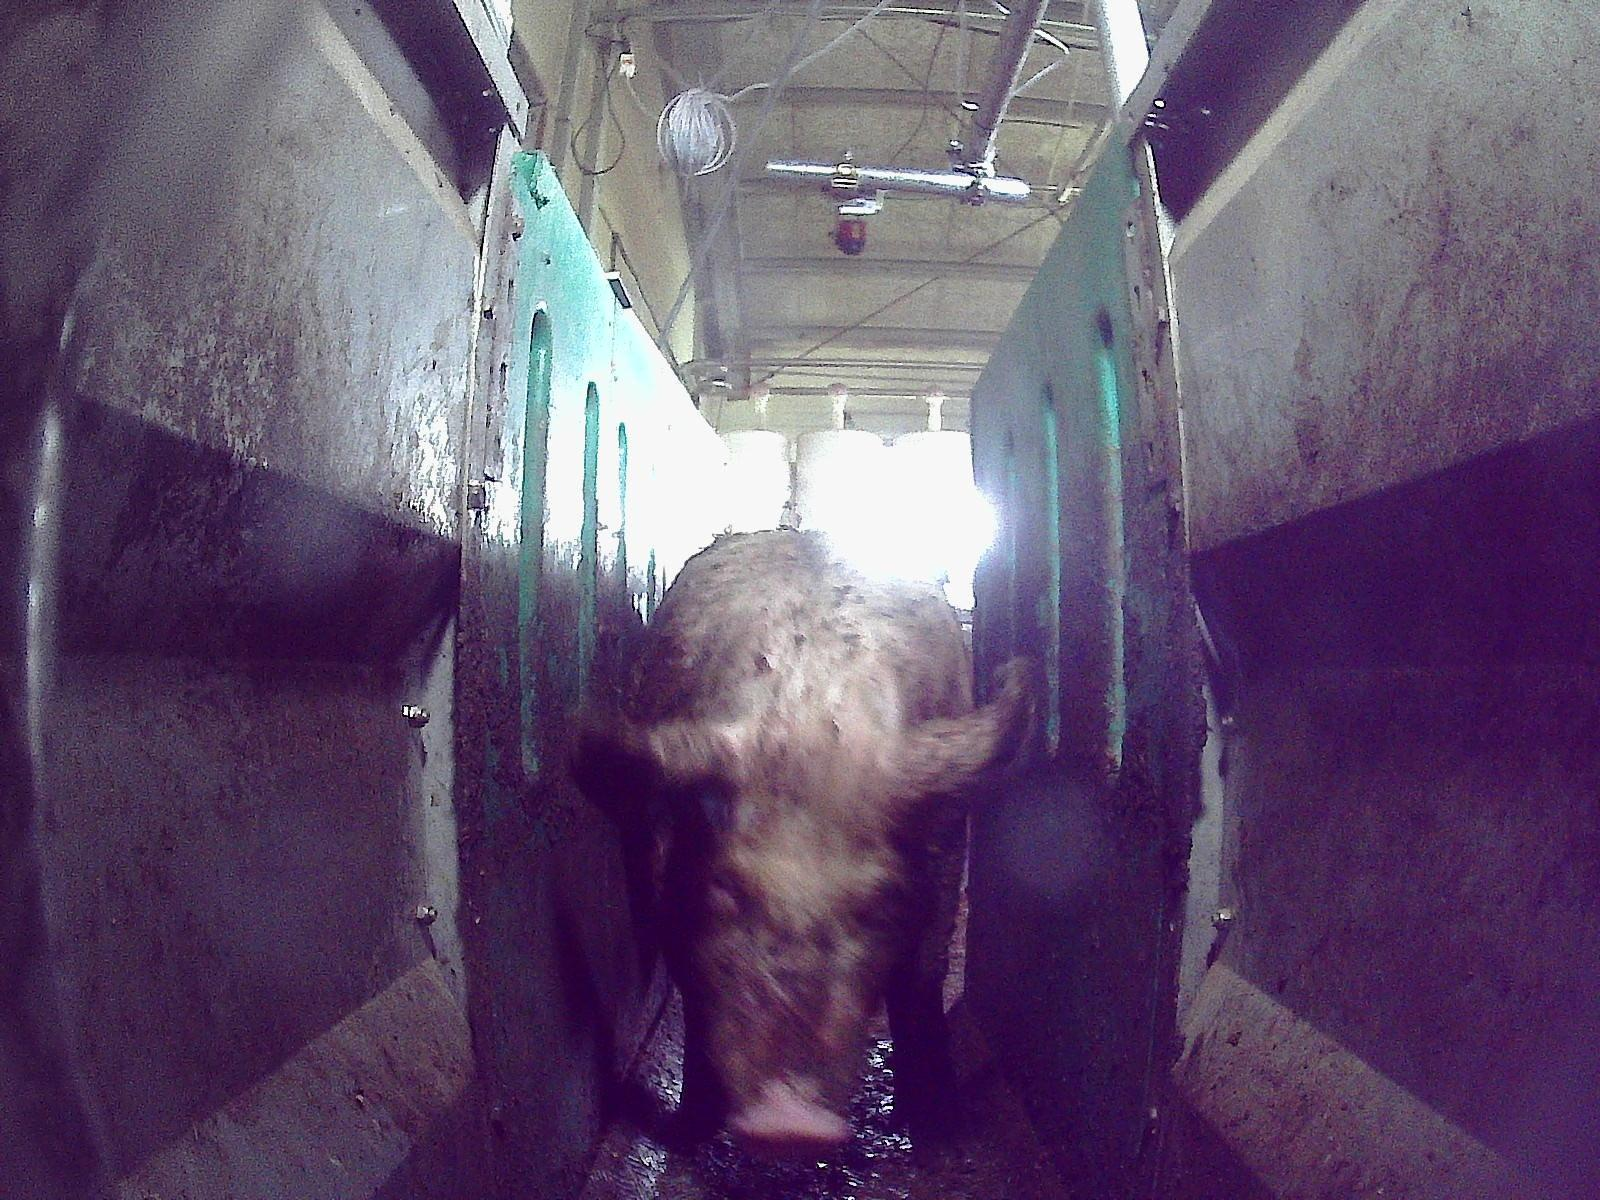Face: (670, 770, 915, 1159)
